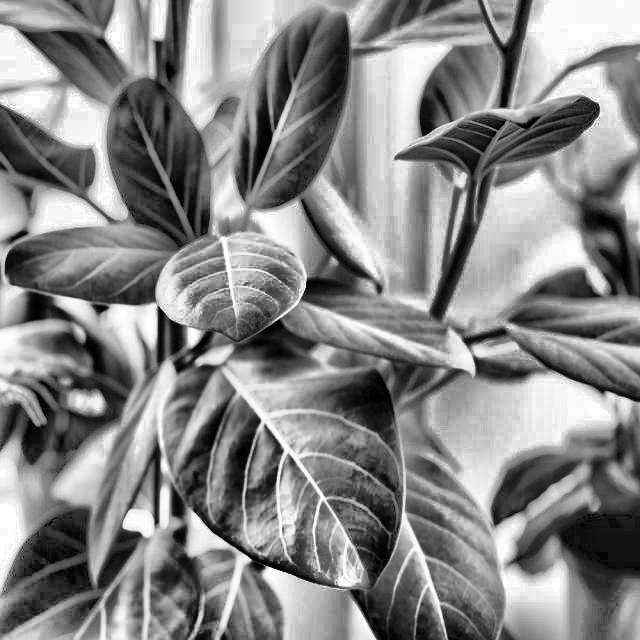plants: (116, 119, 610, 640)
